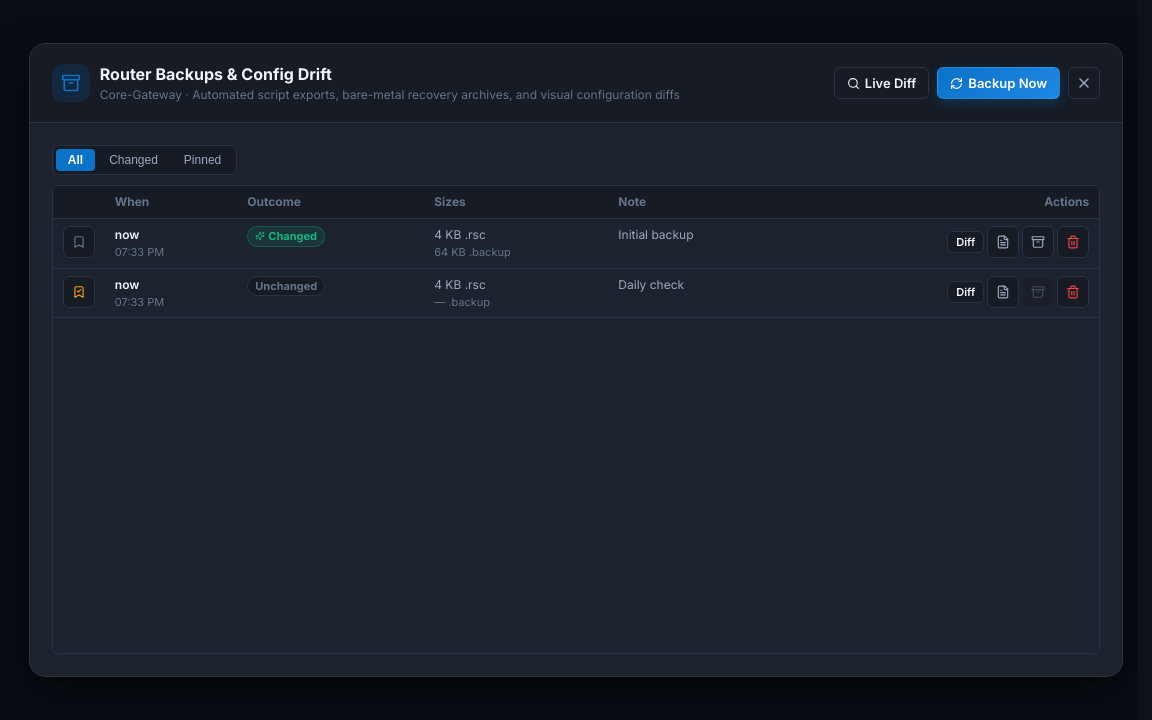
it: RouterBackupsModal › opens visual diff viewer when clicking Diff button
Expected: the text "Initial backup" is shown, [618,227,694,242]
Click the button titled "compare with the previous snapshot" in the row of "64 KB" at (966, 242), box [947,231,984,253]
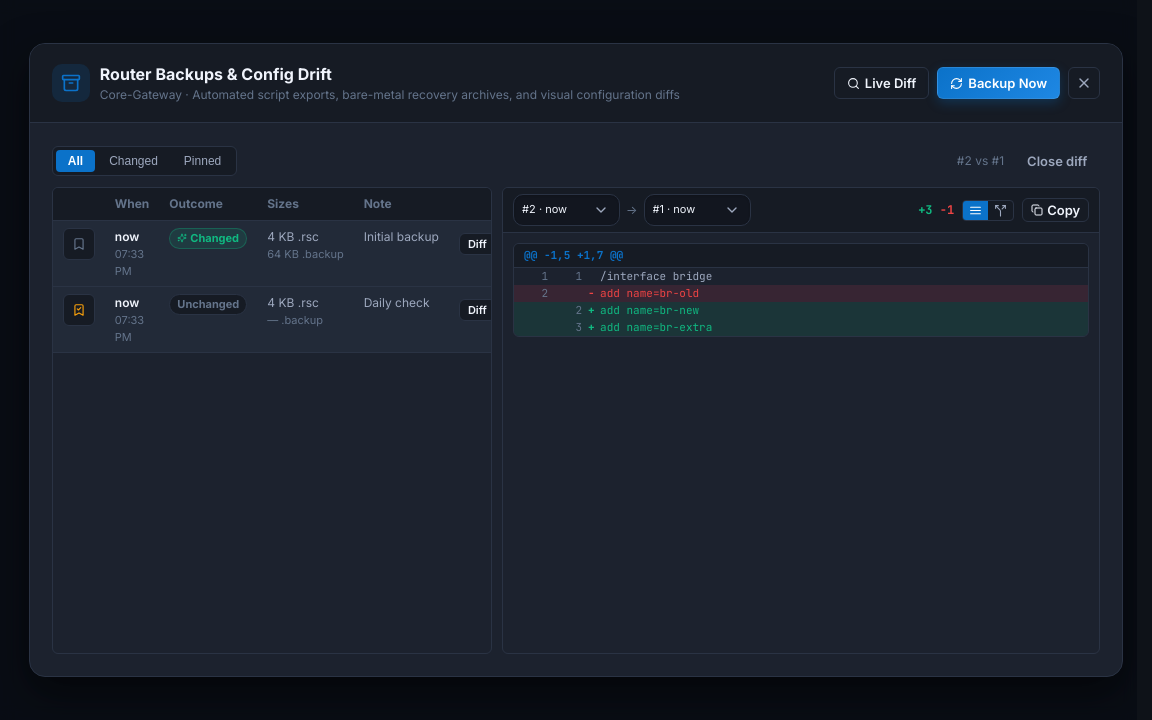
Expected: the text "add name=br-new" is shown, [600,303,699,317]
Expected: the text "add name=br-old" is shown, [600,286,699,300]
Expected: the text "+3" is shown, [918,202,933,218]
